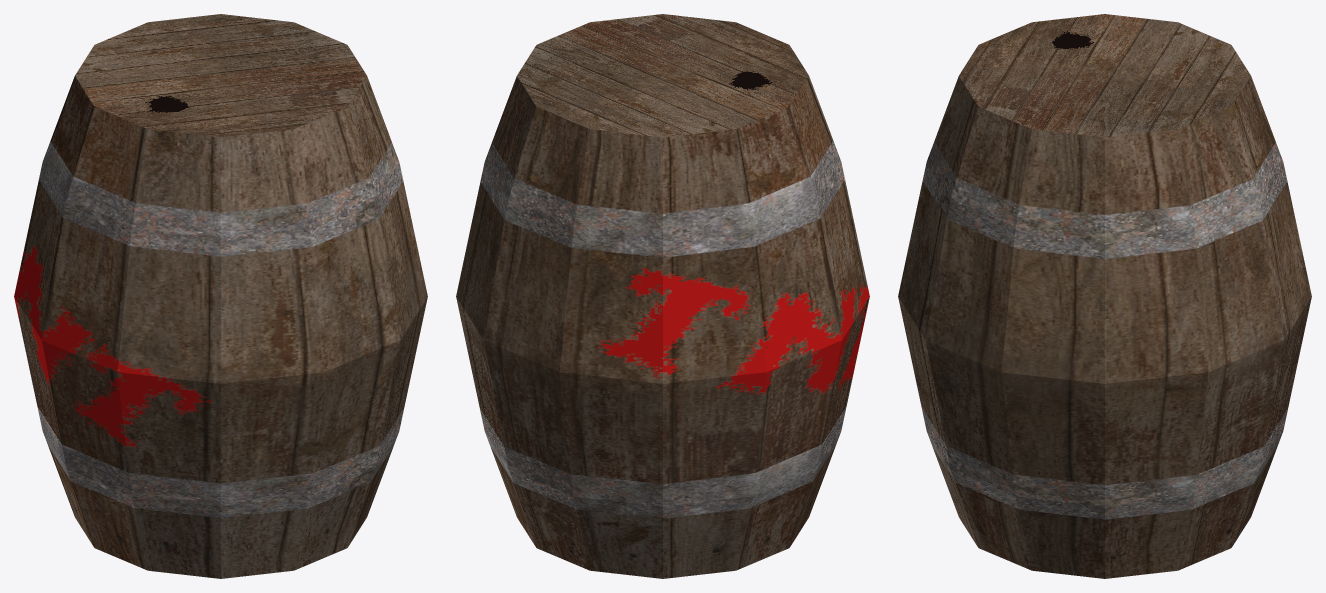
The model's file is ExplosiveBarrel.fbx.
3 views of the same model, side by side, from view 1: azimuth 30°, elevation 25°; view 2: azimuth 150°, elevation 25°; view 3: azimuth 270°, elevation 25° (orthographic).
Parts seen in each view (by area): view 1: ExplosiveBarrel; view 2: ExplosiveBarrel; view 3: ExplosiveBarrel.
Boxes of the visible parts, x1=… form: ExplosiveBarrel: x1=14, y1=14, x2=427, y2=578; ExplosiveBarrel: x1=456, y1=14, x2=869, y2=578; ExplosiveBarrel: x1=898, y1=14, x2=1311, y2=578.
Bounding box in the file's own units: 84.96 × 100 × 84.96.
Materials: 1 (1 with a texture image).
